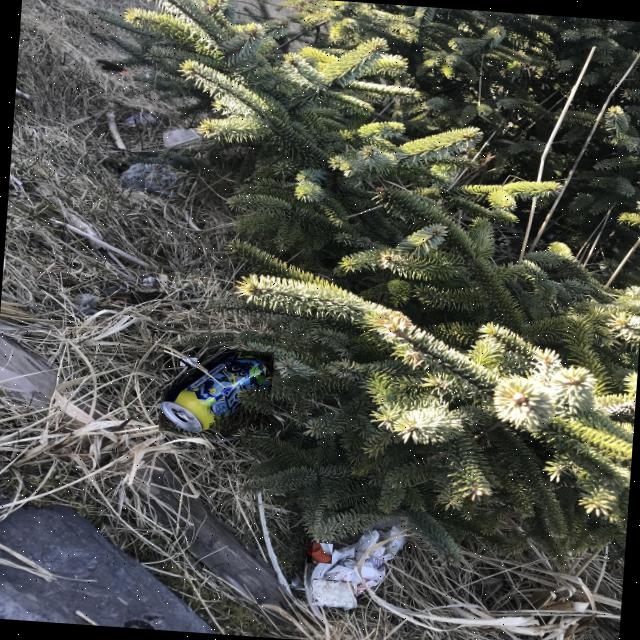Disposable food container: (164, 128, 201, 147)
Drink can: (161, 351, 272, 433)
Plastic bottle cap: (307, 543, 331, 564)
Pop tab: (181, 357, 194, 365)
Unlabeled litter: (310, 516, 407, 593), (312, 580, 355, 607), (122, 112, 155, 123)
